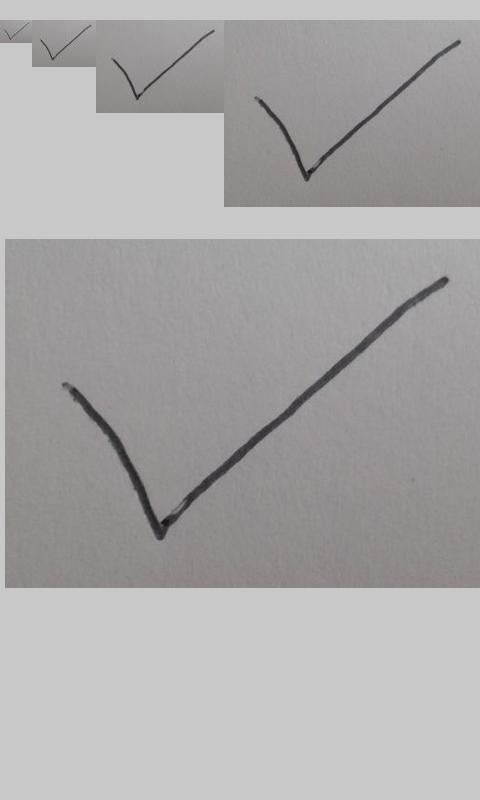check_box: (64, 278, 448, 539), (254, 40, 459, 181), (113, 30, 214, 101), (41, 25, 91, 61), (4, 22, 29, 40)
